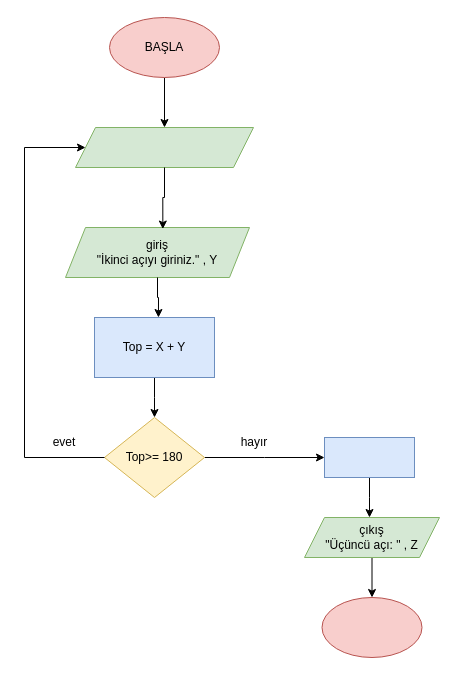
This 457x675 diagram has some shape labels left out. The centre of each missing label's shape, as x and y in pixels:
BİTİR: point (371, 627)
giriş "Birinci açıyı giriniz." , X: point (164, 147)
Z = 180 - Top: point (369, 457)
